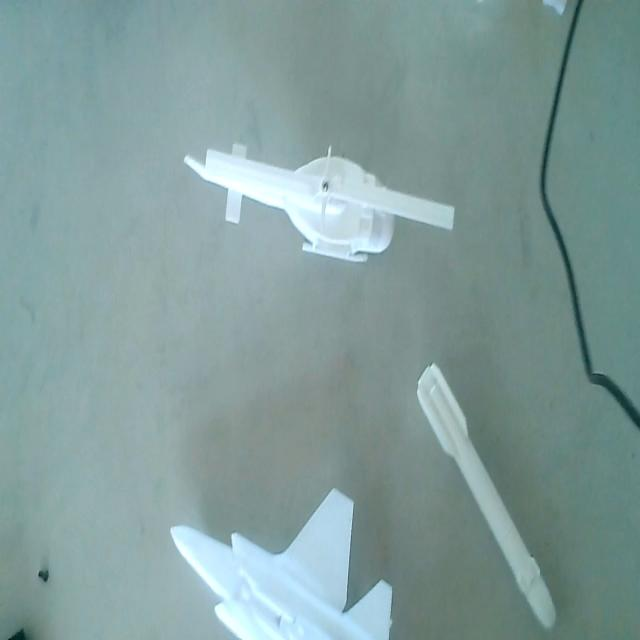Helicopter: (182, 127, 462, 282)
Jet: (162, 483, 397, 640)
Rocket: (414, 356, 561, 630)
